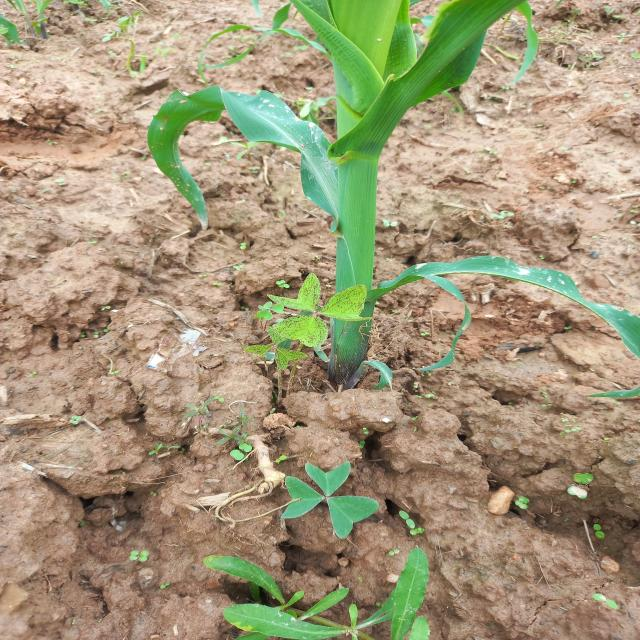maize: (143, 8, 580, 248), (335, 8, 456, 366), (452, 253, 640, 371)
weed: (134, 560, 472, 640), (262, 456, 408, 542), (267, 286, 337, 338)
